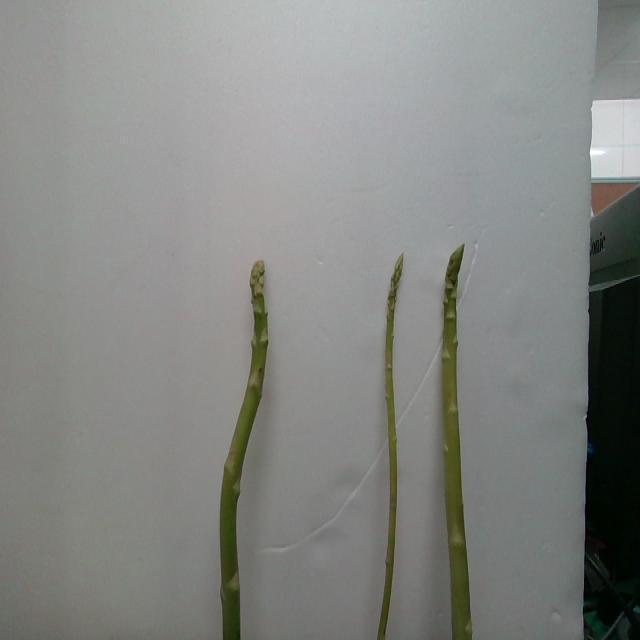aspargus: (219, 262, 270, 640), (444, 246, 477, 640), (375, 258, 406, 640)
